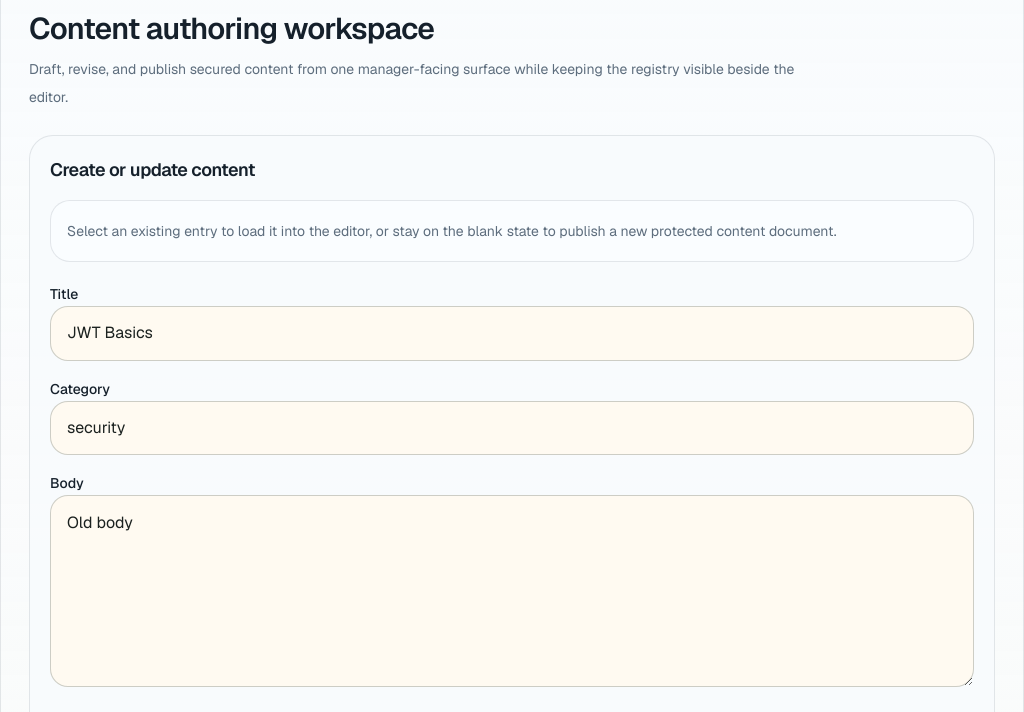
Test: ManageContentClient › updates content with the Server Action and refreshes the route after success
Replace the text in the field labelled "Title" with "JWT Refresh". click: (512, 333)
box: [50, 306, 974, 361]
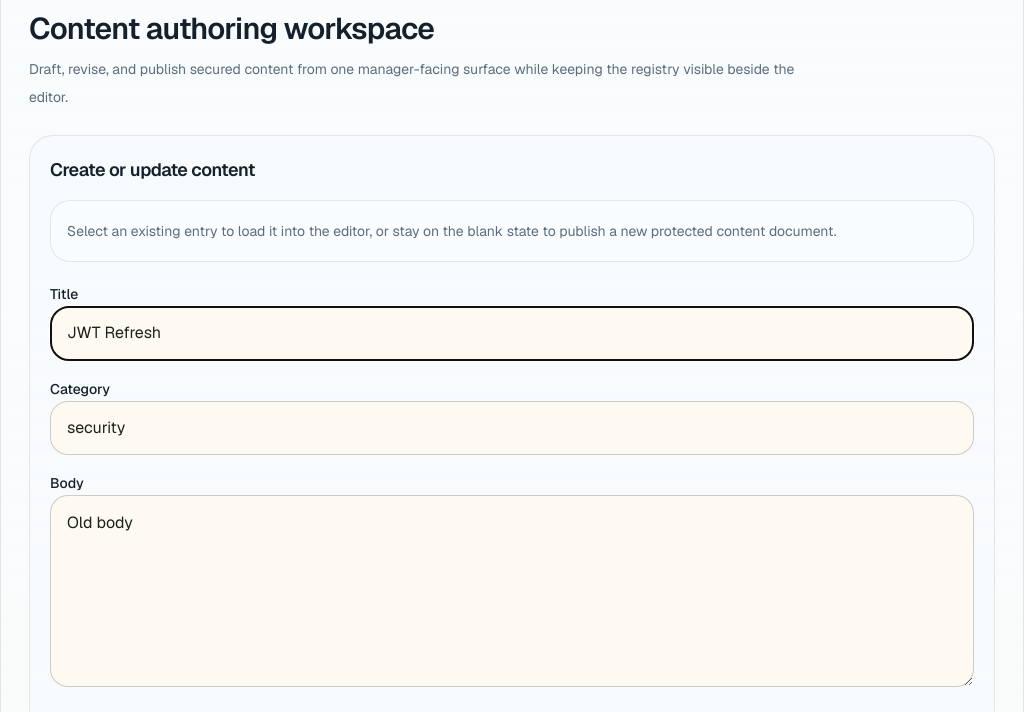
Replace the text in the text box labelled "Body" with "Updated body". click: (512, 591)
box: [50, 495, 974, 687]
(page scrolled)
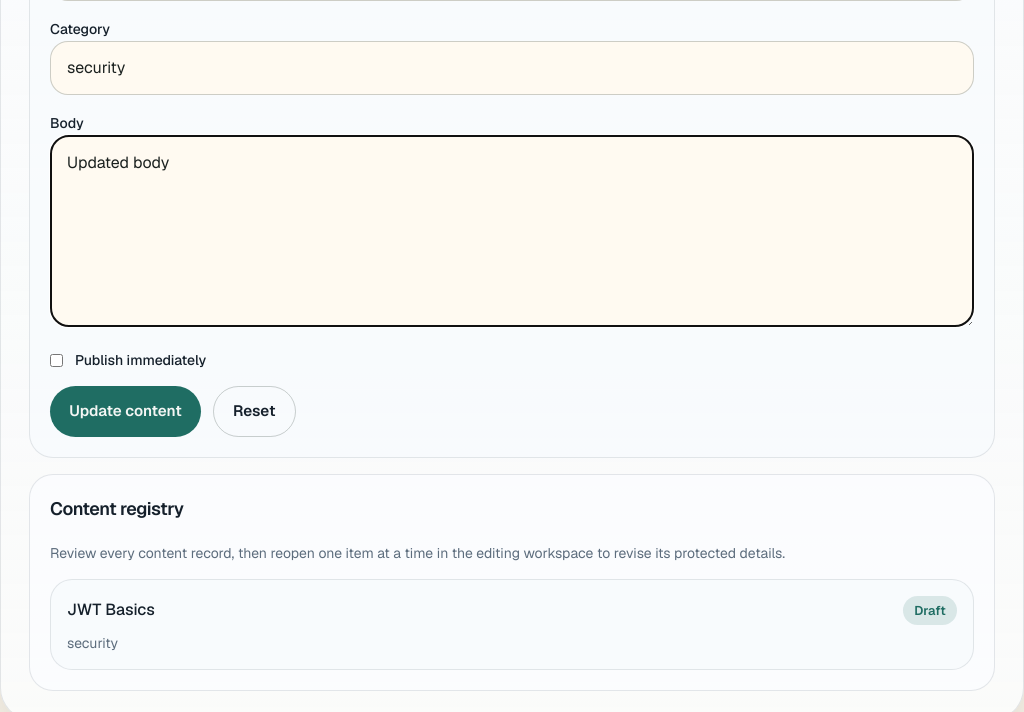
Click the button "Update content". click: (125, 412)
box: [50, 386, 201, 437]
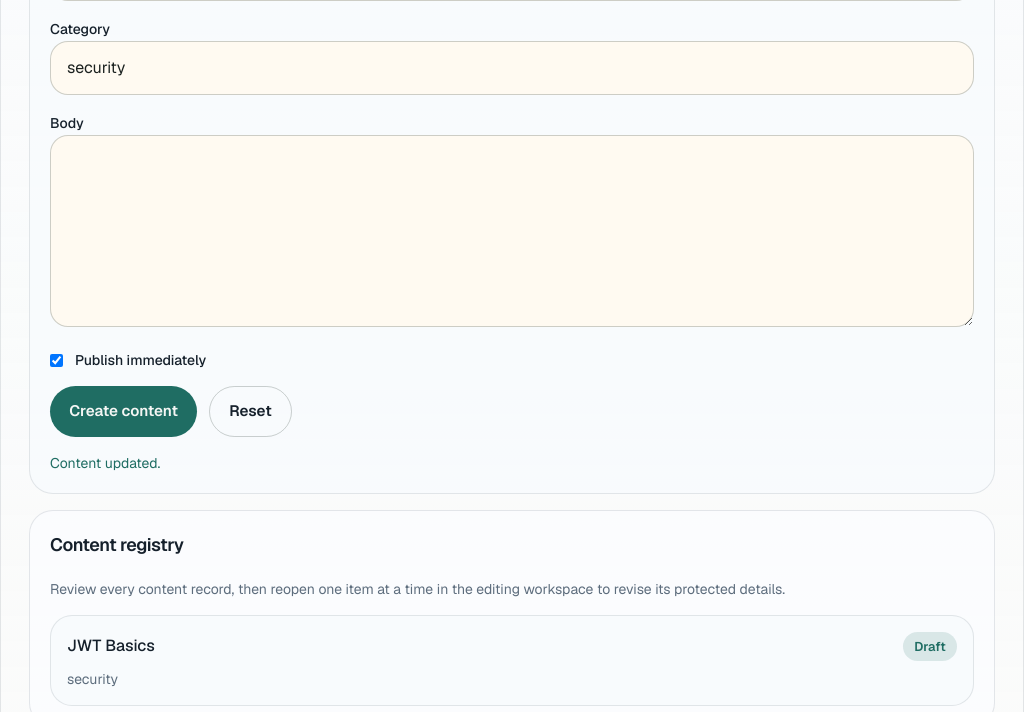
Now the text "Content updated." is shown, box [50, 454, 160, 472]
